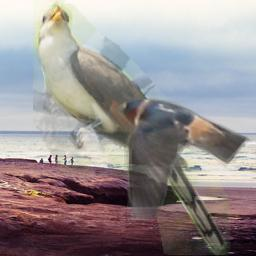Cuckoo: (33, 0, 231, 255)
Swallow: (117, 93, 251, 220)
